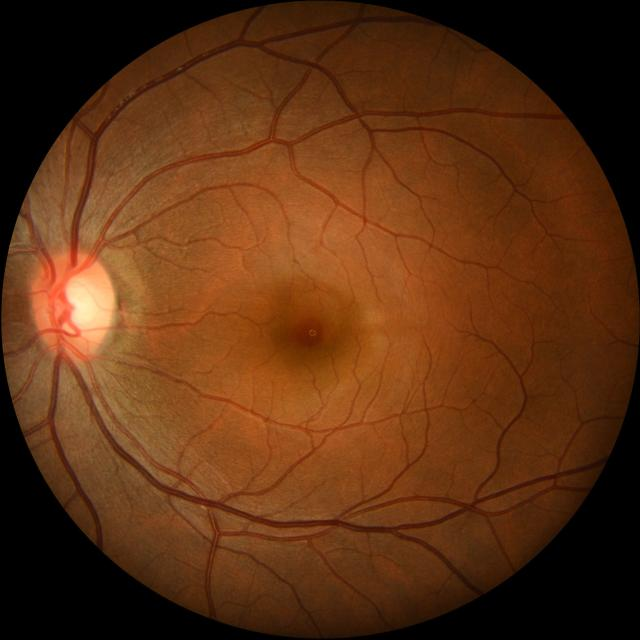OC: (54, 274, 100, 334)
OD: (32, 252, 112, 358)
